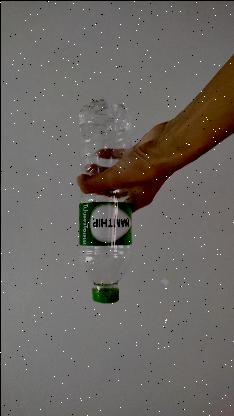Plastic Bottle: (71, 90, 132, 314)
